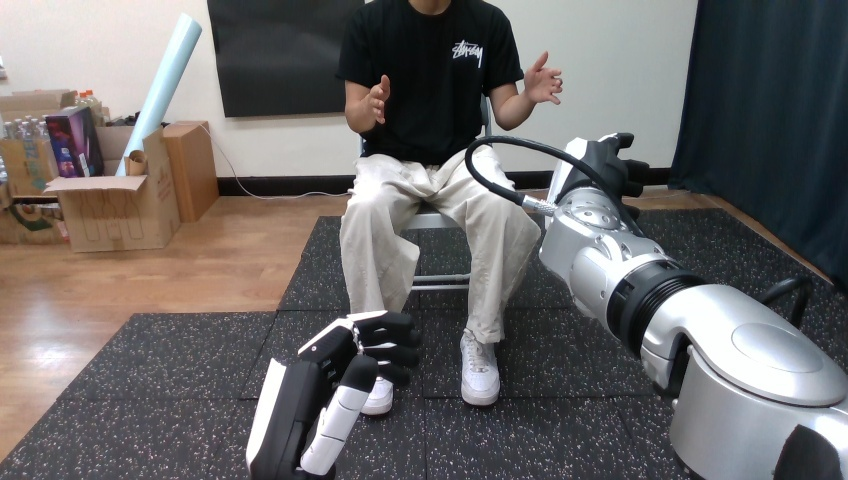left robot hand: (466, 133, 847, 478), (246, 311, 419, 478), (521, 51, 561, 104)
